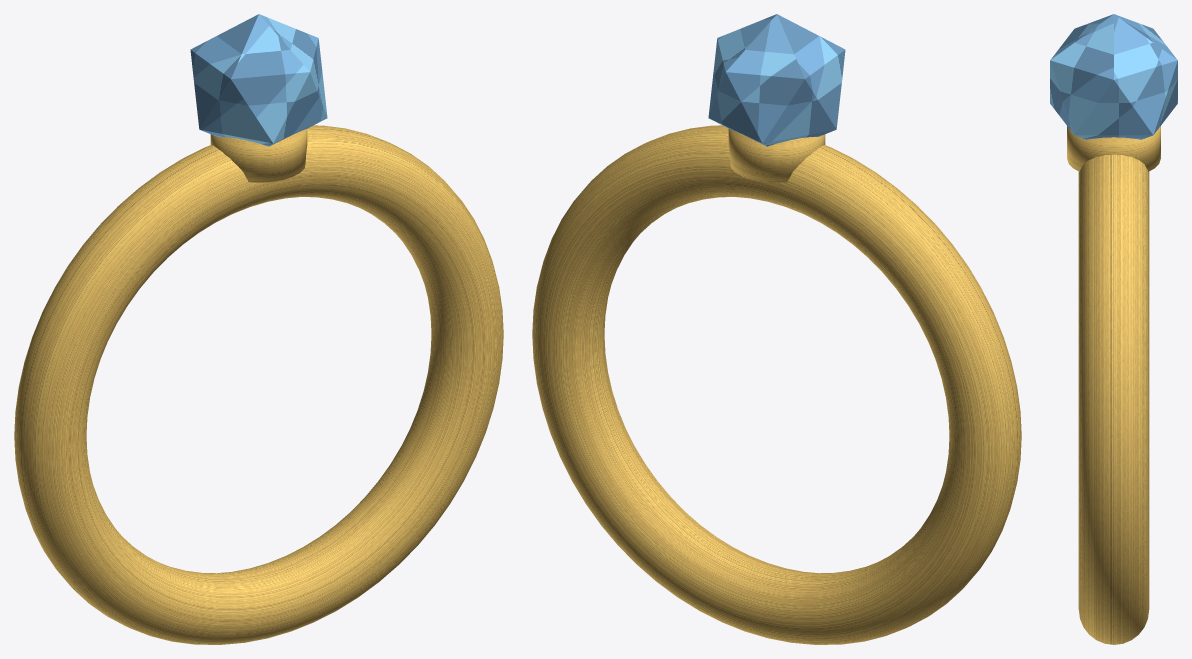
The model's file is ring.glb.
3 renders of one model, left to right at view 1: azimuth 30°, elevation 25°; view 2: azimuth 150°, elevation 25°; view 3: azimuth 270°, elevation 25°, orthographic. The views are drawn at different scales.
Parts seen in each view (by area): view 1: Torus, Icosphere, Cylinder; view 2: Torus, Icosphere, Cylinder; view 3: Torus, Icosphere, Cylinder.
Boxes of the visible parts, bbox=[...] form: Torus: bbox=[14, 125, 503, 644]; Icosphere: bbox=[190, 14, 327, 146]; Cylinder: bbox=[210, 129, 307, 182]; Torus: bbox=[532, 125, 1021, 644]; Icosphere: bbox=[708, 14, 845, 146]; Cylinder: bbox=[728, 129, 825, 182]; Torus: bbox=[1078, 154, 1149, 644]; Icosphere: bbox=[1050, 14, 1177, 139]; Cylinder: bbox=[1067, 126, 1160, 171].
Bounding box in the file's own units: 2.3 × 2.85 × 0.5444.
Materials: 2 (2 with a texture image).
